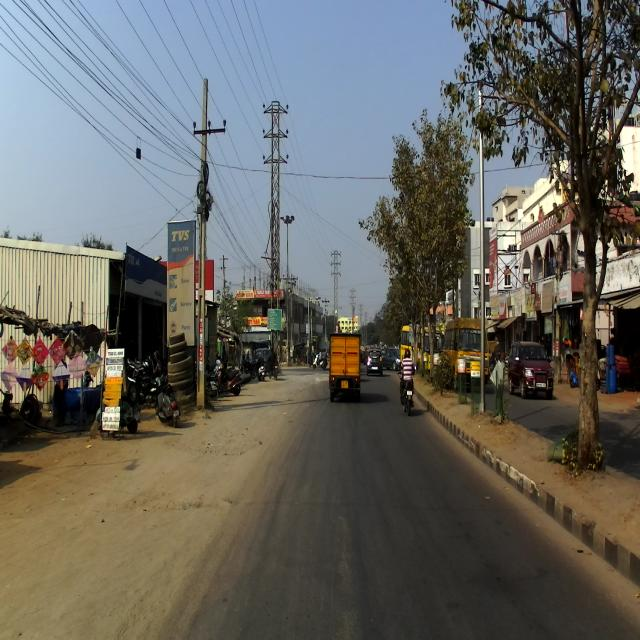electric pole ahead at: (187, 76, 222, 395)
motorcycle ahead at: (147, 364, 182, 431)
truck ahead at: (329, 328, 363, 408)
